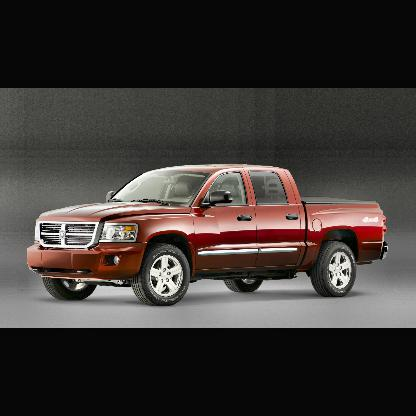Dodge Dakota Crew Cab 2010: (28, 164, 389, 307)
